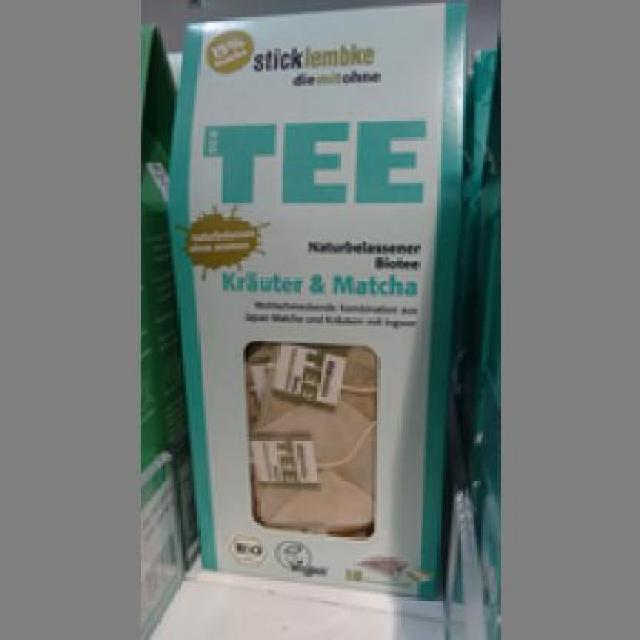Tea: (160, 0, 464, 592)
